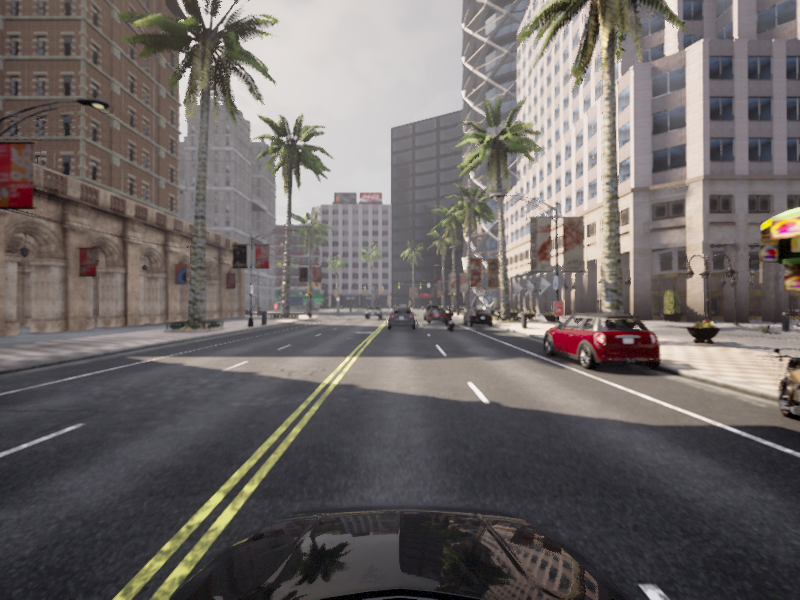vehicle: (387, 307, 416, 329), (425, 306, 448, 324), (442, 308, 457, 332), (391, 306, 412, 321), (423, 304, 441, 321), (364, 304, 382, 320)
